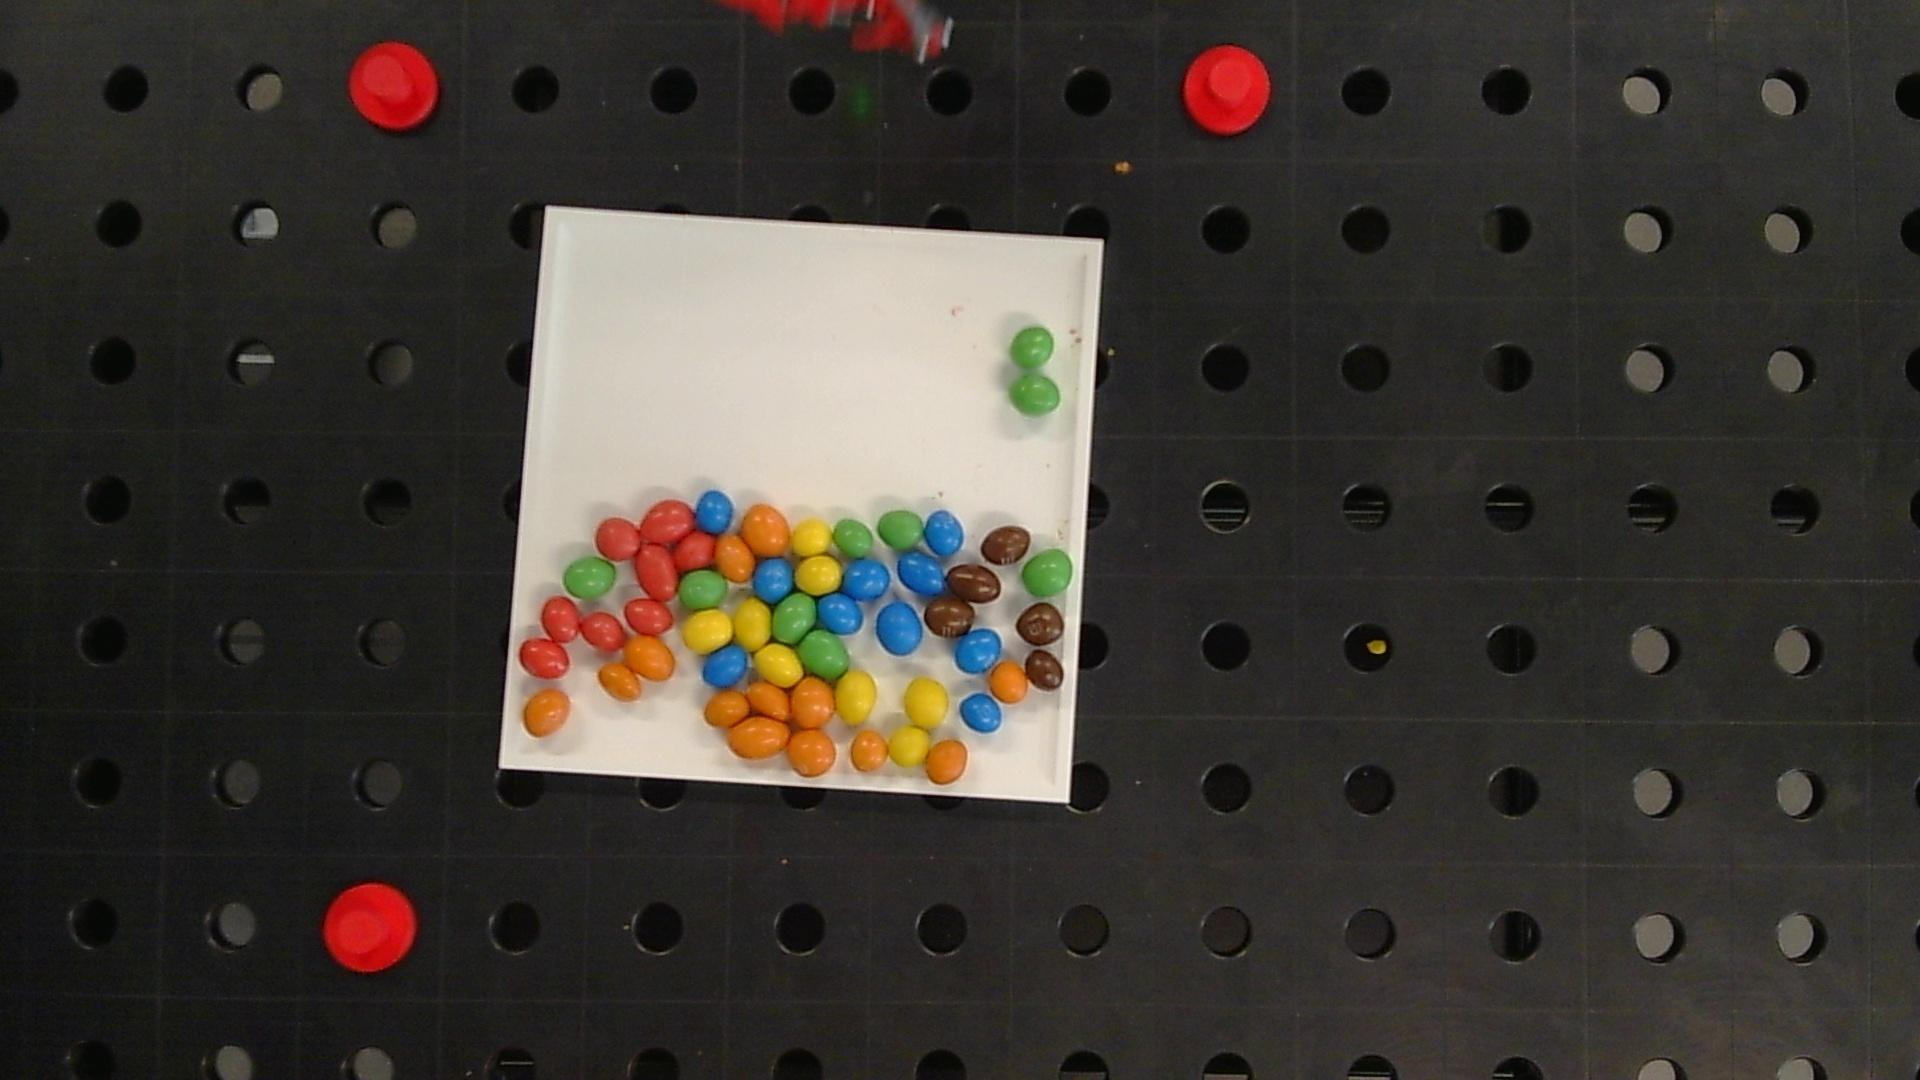blue: (877, 603, 923, 654), (955, 629, 1002, 674), (898, 553, 944, 595), (843, 559, 890, 600), (819, 592, 864, 633), (703, 647, 749, 687), (924, 510, 964, 555), (960, 694, 1002, 733), (753, 558, 793, 600), (695, 491, 733, 533)
brown: (1015, 603, 1064, 646), (945, 564, 1001, 603), (981, 525, 1031, 564), (924, 599, 975, 638), (1025, 650, 1064, 690)
green: (799, 630, 849, 678), (1022, 550, 1072, 596), (563, 556, 617, 599), (1010, 373, 1062, 417), (773, 593, 815, 642), (679, 570, 727, 609), (1010, 327, 1055, 368), (878, 510, 924, 549), (833, 518, 874, 558)
orange: (728, 716, 790, 758), (741, 504, 790, 555), (625, 636, 675, 680), (524, 690, 571, 736), (787, 731, 836, 775), (791, 679, 835, 728), (715, 534, 754, 583), (926, 740, 968, 783), (704, 690, 749, 728), (849, 729, 887, 771), (599, 662, 641, 700), (748, 682, 790, 719), (990, 661, 1027, 702)
red: (636, 543, 676, 600), (641, 500, 694, 543), (520, 638, 570, 679), (595, 517, 641, 559), (625, 597, 674, 634), (542, 597, 580, 642), (580, 612, 622, 650), (674, 530, 713, 568)
yellow: (905, 678, 949, 727), (683, 609, 733, 653), (836, 671, 877, 724), (756, 645, 802, 684), (735, 599, 771, 647), (887, 725, 930, 766), (796, 555, 841, 593), (791, 518, 832, 555)
